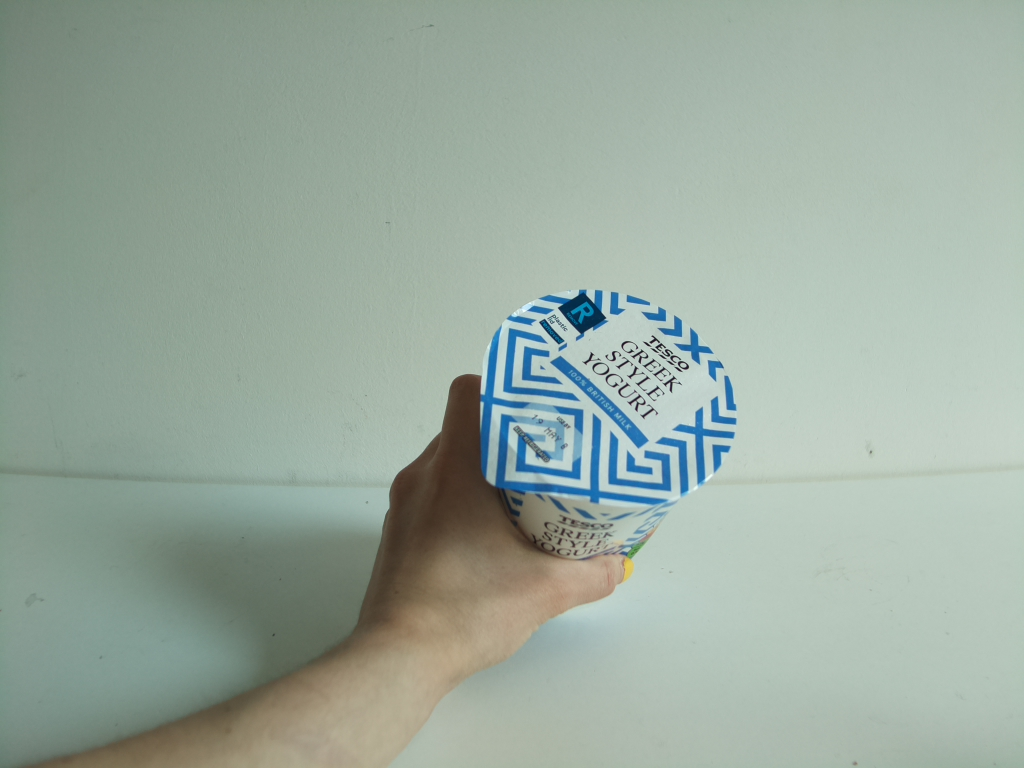yogurt: (478, 283, 741, 562)
